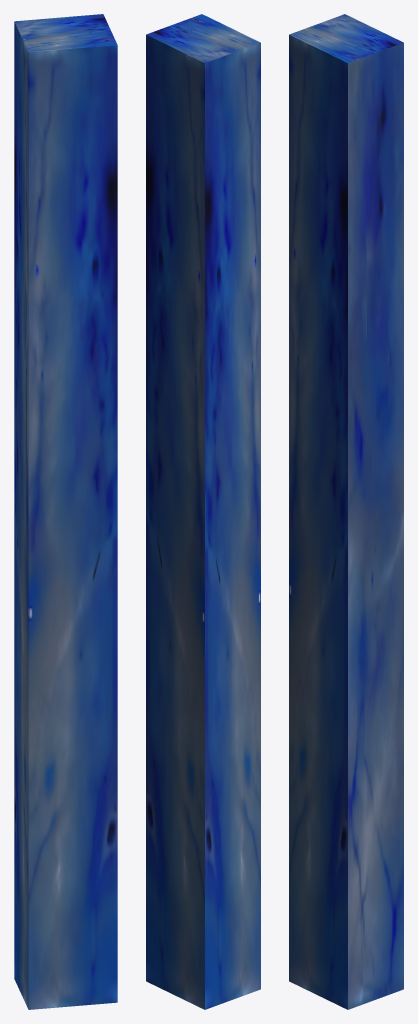
Rendered from BlueBlocks_16.gltf.
The picture shows the model from 3 angles, left to right: view 1: azimuth 30°, elevation 25°; view 2: azimuth 150°, elevation 25°; view 3: azimuth 330°, elevation 25°; orthographic projection.
Visible parts, largest first — view 1: BlueBlocks_16; view 2: BlueBlocks_16; view 3: BlueBlocks_16.
Boxes of the visible parts, bbox=[...] form: BlueBlocks_16: bbox=[14, 14, 117, 1009]; BlueBlocks_16: bbox=[146, 14, 260, 1009]; BlueBlocks_16: bbox=[289, 14, 403, 1009].
Bounding box in the file's own units: 3.74 × 35.81 × 3.41.
Materials: 1 (1 with a texture image).
